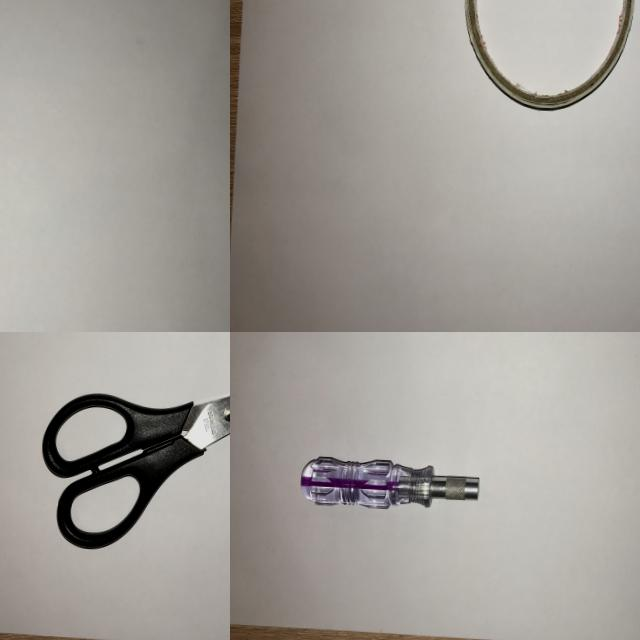scissors: (30, 332, 230, 574)
scotch: (455, 0, 640, 121)
screwdriver: (288, 446, 494, 524)
